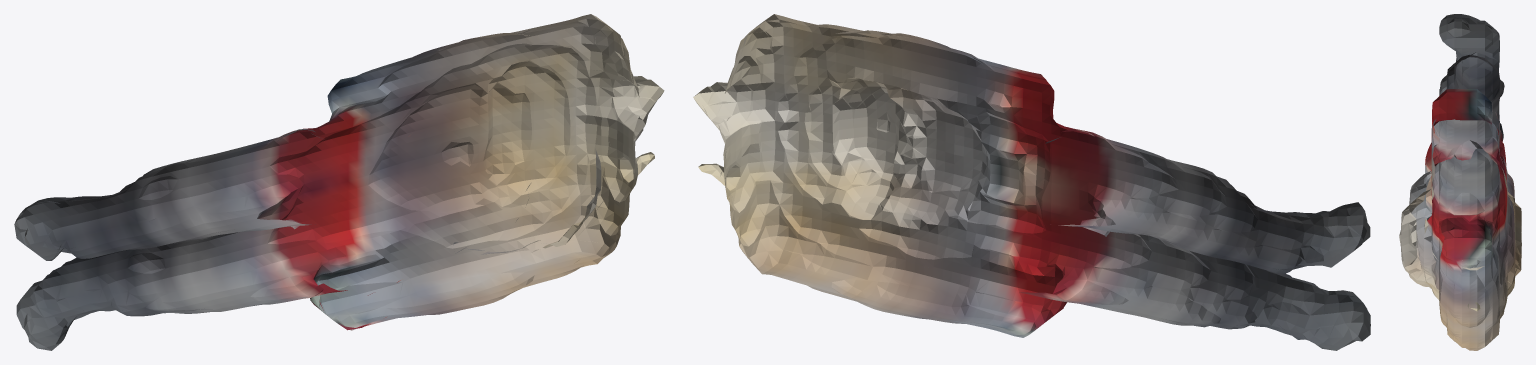
3 renders of one model, left to right at view 1: azimuth 30°, elevation 25°; view 2: azimuth 150°, elevation 25°; view 3: azimuth 270°, elevation 25°, orthographic. The views are drawn at different scales.
Parts seen in each view (by area): view 1: world; view 2: world; view 3: world.
Part boxes in pixels (x1,y1,x2,y2): world: (14,14,664,350); world: (693,14,1370,350); world: (1399,14,1521,350).
Bounding box in the file's own units: 0.9713 × 0.3678 × 0.2205.
